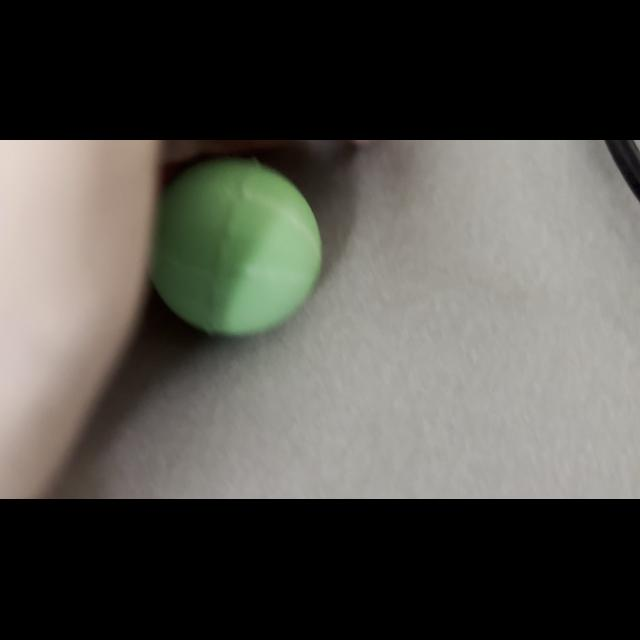objects: (152, 153, 328, 345)
